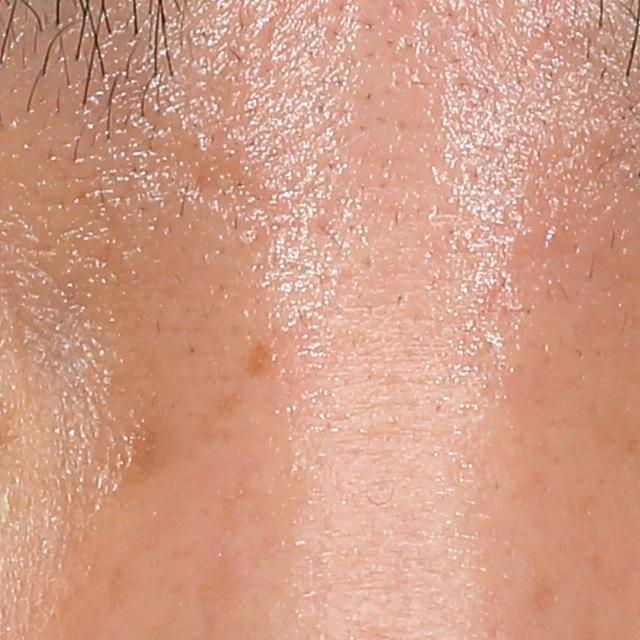melasma: (236, 334, 283, 381)
other: (102, 422, 158, 489)
